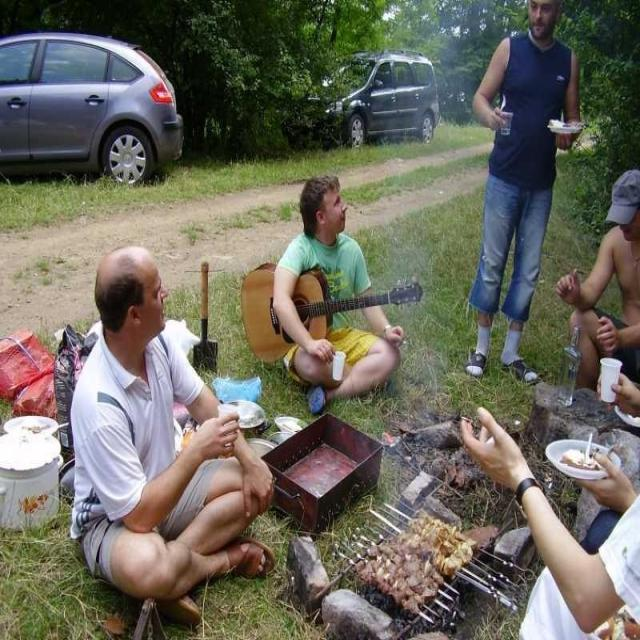guitar: (241, 260, 426, 357)
